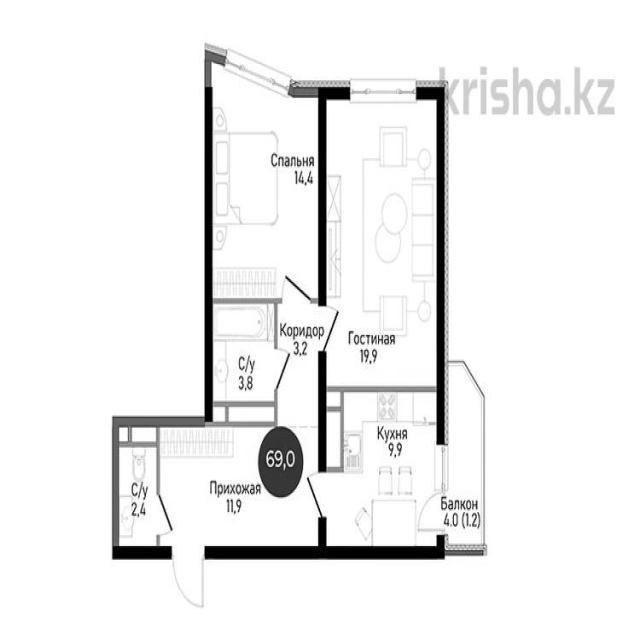balcony: (448, 362, 486, 545)
bathroom: (207, 310, 275, 416), (115, 422, 158, 548)
hallway: (163, 426, 318, 550), (277, 309, 319, 419)
kitchen: (322, 392, 445, 548)
living_room: (326, 95, 442, 390), (211, 54, 319, 304)
